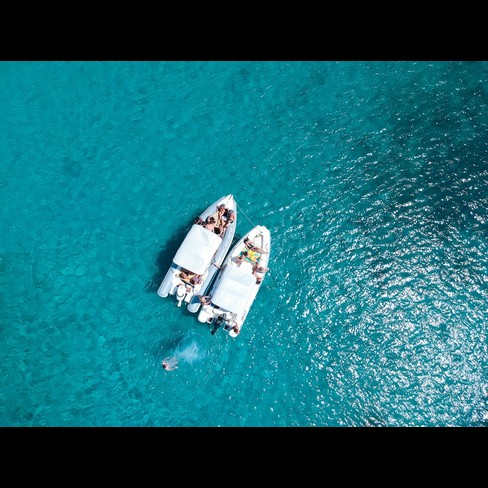boat: (150, 186, 240, 317), (194, 219, 276, 341)
